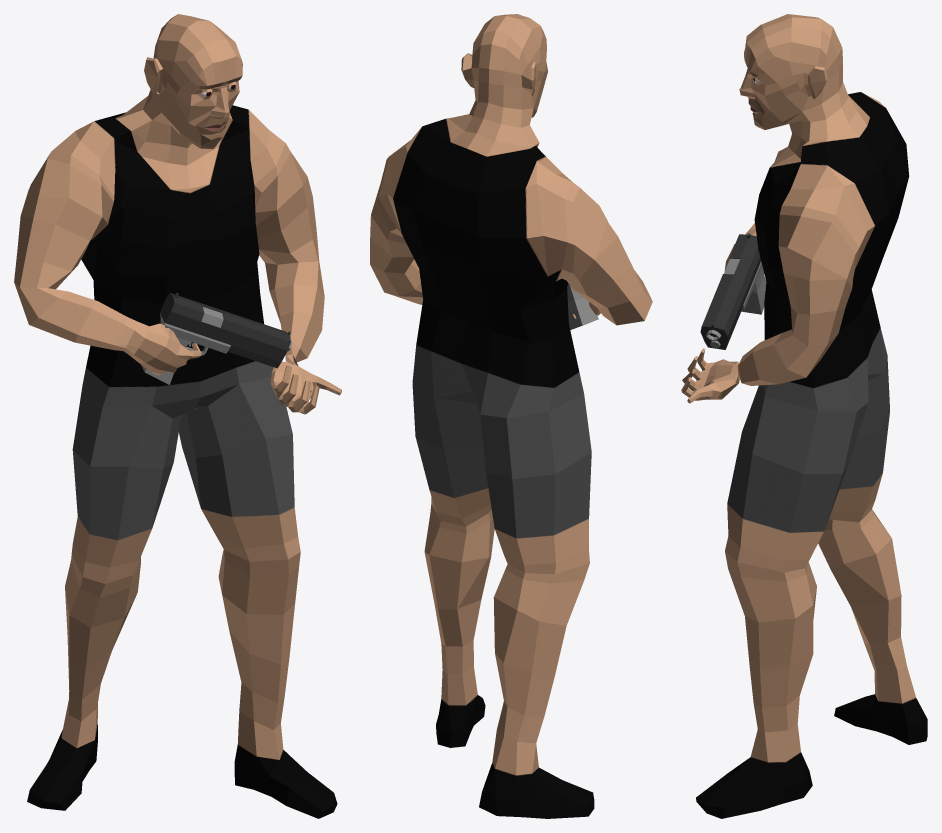
File: PlayerIdle(183).obj
The picture shows the model from 3 angles, left to right: view 1: azimuth 30°, elevation 25°; view 2: azimuth 150°, elevation 25°; view 3: azimuth 270°, elevation 25°; orthographic projection. The views are drawn at different scales.
Parts seen in each view (by area): view 1: Plane002, Box003; view 2: Plane002, Box003; view 3: Plane002, Box003.
Part boxes in pixels (left/top/right/bottom): Plane002: left=14, top=14, right=341, bottom=818; Box003: left=141, top=292, right=291, bottom=384; Plane002: left=370, top=14, right=652, bottom=818; Box003: left=567, top=283, right=598, bottom=329; Plane002: left=681, top=14, right=927, bottom=818; Box003: left=700, top=233, right=766, bottom=349.
Size of the model in its own units: 703 by 1802 by 535.
